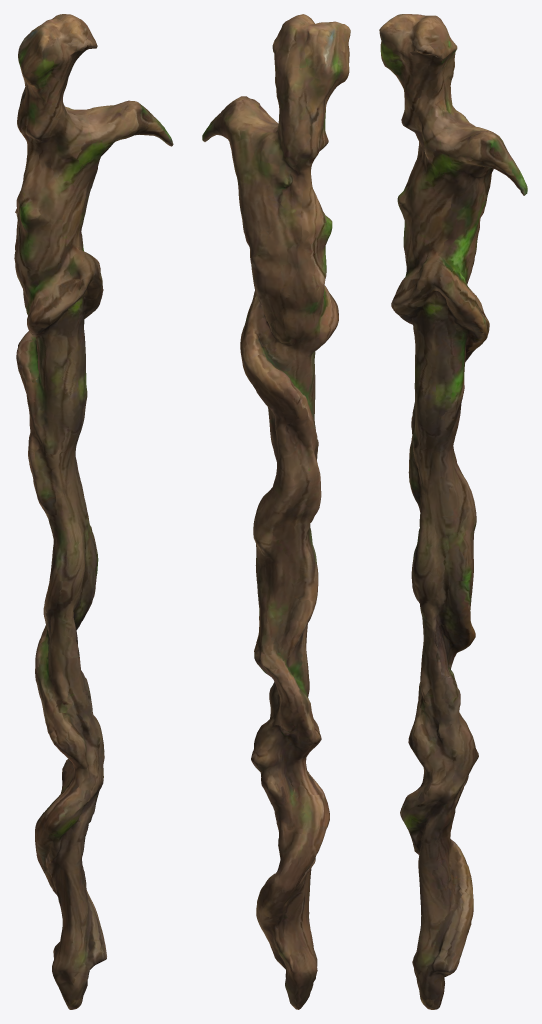
Rendered from kok_asa.glb.
The picture shows the model from 3 angles, left to right: view 1: azimuth 30°, elevation 25°; view 2: azimuth 150°, elevation 25°; view 3: azimuth 330°, elevation 25°; orthographic projection.
Parts seen in each view (by area): view 1: w1; view 2: w1; view 3: w1.
Part boxes in pixels (x1,y1,x2,y2): w1: [14, 14, 173, 1009]; w1: [202, 14, 350, 1009]; w1: [379, 14, 527, 1009].
Size of the model in its own units: 0.3094 by 2 by 0.1794.
1 material, 1 textured.
